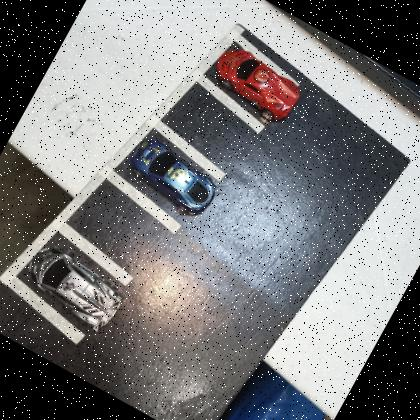Car: (16, 236, 133, 338), (118, 132, 226, 223), (204, 39, 309, 129)
